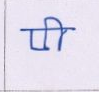i_matra: (47, 16, 67, 51)
